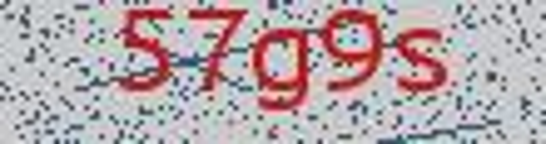5: (113, 5, 178, 104)
7: (183, 1, 252, 99)
9: (318, 7, 386, 96)
g: (251, 25, 314, 120)
s: (392, 22, 455, 104)
